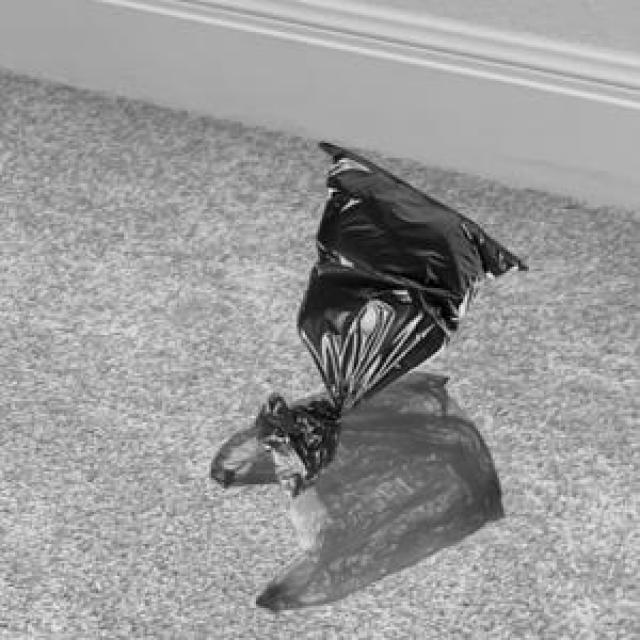miscellaneous trash: (252, 139, 523, 493)
